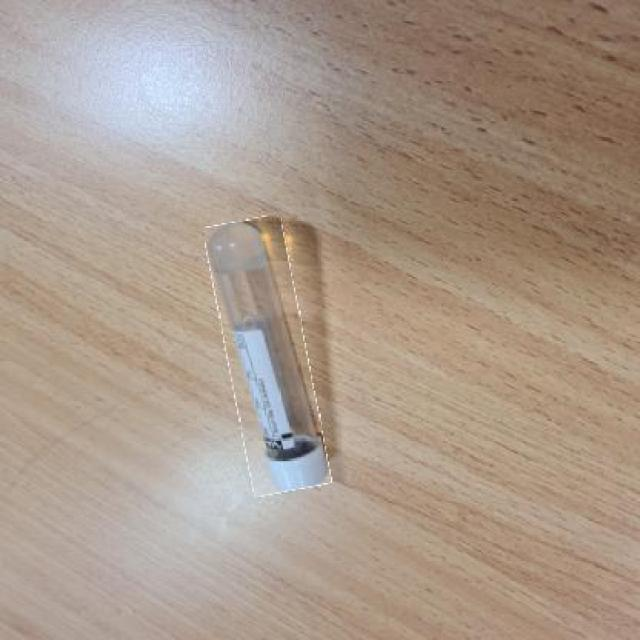Experimental-tube: (215, 216, 319, 495)
